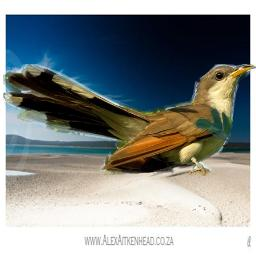Cuckoo: (3, 64, 256, 176)
